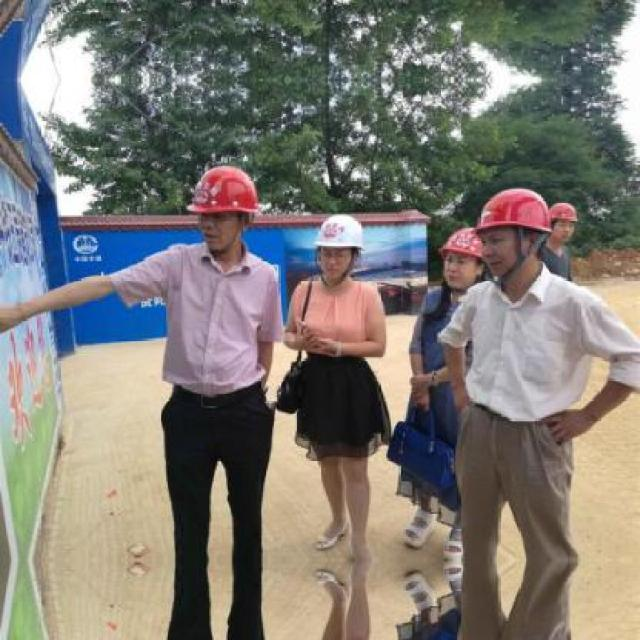helmet: (190, 167, 264, 218), (478, 186, 554, 234), (315, 214, 364, 252), (439, 226, 489, 255), (543, 201, 579, 219)
